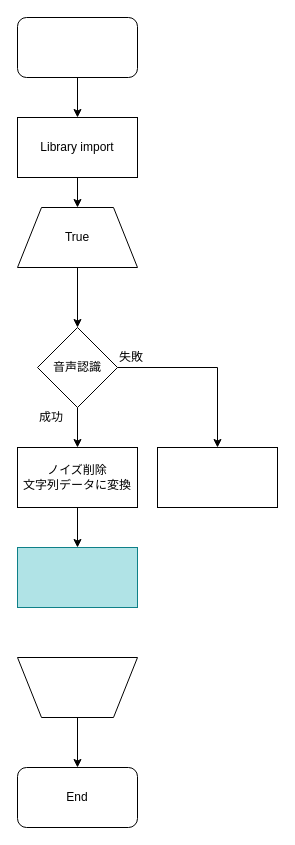
Image size: 295x845. Some labels were removed from this diagram. The shapes that lost their labels are listed below. From the top down, each one's centre as x and y in pixels, then its label:
(x=77, y=47): Start
(x=217, y=477): よく聞き取れませんでしたと表示
(x=77, y=577): 形態素解析
